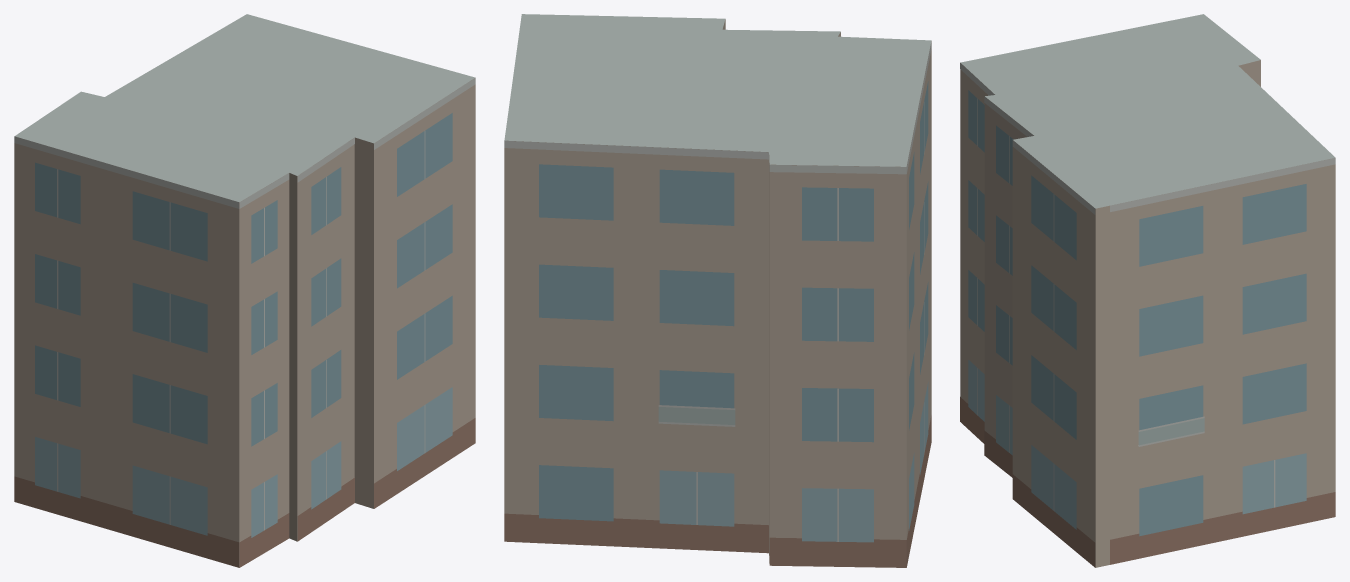
The model's file is survey-upis-32951375.glb.
3 renders of one model, left to right at view 1: azimuth 30°, elevation 25°; view 2: azimuth 150°, elevation 25°; view 3: azimuth 270°, elevation 25°, orthographic. The views are drawn at different scales.
Visible parts, largest first — view 1: survey-upis-32951375.tmp; view 2: survey-upis-32951375.tmp; view 3: survey-upis-32951375.tmp.
Boxes of the visible parts, x1,y1,x2,y2 form: survey-upis-32951375.tmp: [14, 14, 475, 567]; survey-upis-32951375.tmp: [504, 14, 931, 567]; survey-upis-32951375.tmp: [960, 14, 1335, 567].
Bounding box in the file's own units: 15.35 × 13.2 × 12.51.
